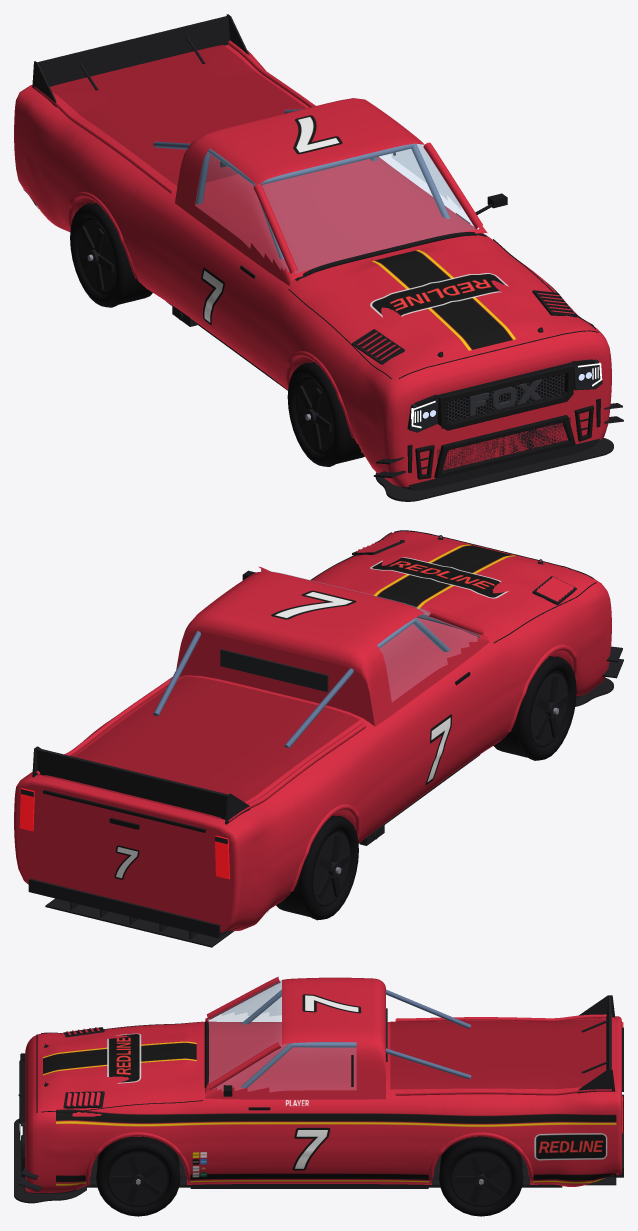
Rendered from truck_default.glb.
The picture shows the model from 3 angles, top to bottom: view 1: azimuth 30°, elevation 25°; view 2: azimuth 150°, elevation 25°; view 3: azimuth 270°, elevation 25°; orthographic projection. The views are drawn at different scales.
Parts seen in each view (by area): view 1: Body, Cab, BedFloor, FOX_Race_Truck, SpoilerBlade, Wheel_RR, Wheel_FR, GrilleSurround, Splitter, LowerIntakeSurround, LowerIntakeMesh, APillar (×2) (+7 smaller); view 2: Body, Cab, BedFloor, Wheel_FR, Wheel_RR, FOX_Race_Truck, SpoilerBlade, RearBumper, RearWindow, DiffuserPlate, BedRail (×2), FenderLip (×2) (+4 smaller); view 3: Body, Cab, FOX_Race_Truck, BedFloor, Wheel_FL, Wheel_RL, BedRail (×2), FenderLip (×2), SideSkirt, Splitter, APillar (×2), CageRearStay (×2) (+8 smaller).
Part boxes in pixels (bbox=[...]): Body: bbox=[14, 45, 611, 490]; Cab: bbox=[175, 98, 487, 285]; BedFloor: bbox=[50, 45, 305, 185]; FOX_Race_Truck: bbox=[23, 189, 593, 452]; SpoilerBlade: bbox=[37, 16, 229, 86]; Wheel_RR: bbox=[70, 203, 152, 307]; Wheel_FR: bbox=[287, 362, 364, 466]; GrilleSurround: bbox=[437, 362, 574, 430]; Splitter: bbox=[375, 438, 613, 501]; LowerIntakeSurround: bbox=[434, 415, 575, 478]; LowerIntakeMesh: bbox=[437, 417, 570, 470]; APillar (×2): bbox=[253, 142, 482, 273]; Body: bbox=[14, 531, 611, 932]; Cab: bbox=[176, 571, 489, 726]; BedFloor: bbox=[44, 676, 359, 819]; Wheel_FR: bbox=[493, 656, 576, 760]; Wheel_RR: bbox=[276, 815, 358, 920]; FOX_Race_Truck: bbox=[226, 539, 515, 931]; SpoilerBlade: bbox=[36, 748, 227, 819]; RearBumper: bbox=[28, 878, 225, 938]; RearWindow: bbox=[220, 649, 328, 691]; DiffuserPlate: bbox=[45, 898, 234, 947]; BedRail (×2): bbox=[36, 677, 366, 822]; FenderLip (×2): bbox=[290, 644, 578, 891]; Body: bbox=[25, 1016, 621, 1193]; Cab: bbox=[205, 977, 385, 1099]; FOX_Race_Truck: bbox=[43, 1033, 616, 1185]; BedFloor: bbox=[390, 1019, 611, 1089]; Wheel_FL: bbox=[96, 1136, 180, 1216]; Wheel_RL: bbox=[439, 1136, 523, 1216]; BedRail (×2): bbox=[395, 1014, 611, 1095]; FenderLip (×2): bbox=[86, 1132, 533, 1177]; SideSkirt: bbox=[190, 1184, 428, 1188]; Splitter: bbox=[14, 1119, 86, 1203]; APillar (×2): bbox=[207, 976, 280, 1090]; CageRearStay (×2): bbox=[386, 989, 471, 1078].
Size of the model in its own units: 2.1 by 1.67 by 5.53.
24 materials, 6 textured.
